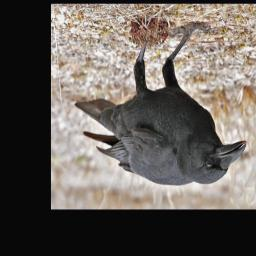Crow: (74, 22, 247, 186)
